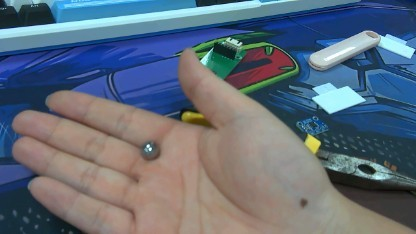ironball: (139, 138, 160, 159)
